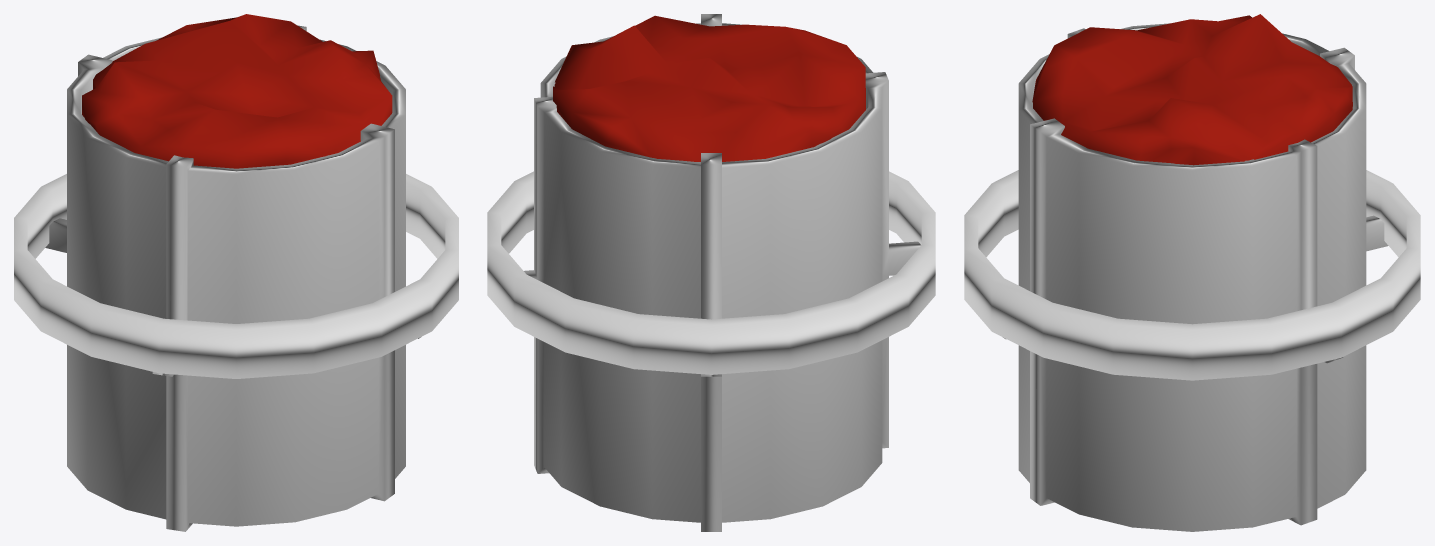
Rendered from SM_Charcoal_01.fbx.
3 views of the same model, side by side, from view 1: azimuth 30°, elevation 25°; view 2: azimuth 150°, elevation 25°; view 3: azimuth 270°, elevation 25° (orthographic). The views are drawn at different scales.
Visible parts, largest first — view 1: SM_Charcoal_01; view 2: SM_Charcoal_01; view 3: SM_Charcoal_01.
Boxes of the visible parts, box(x1,y1,x2,y2) form: SM_Charcoal_01: box(14, 14, 458, 531); SM_Charcoal_01: box(487, 14, 935, 531); SM_Charcoal_01: box(964, 14, 1420, 531).
Size of the model in its own units: 46.04 by 44.87 by 45.34.
